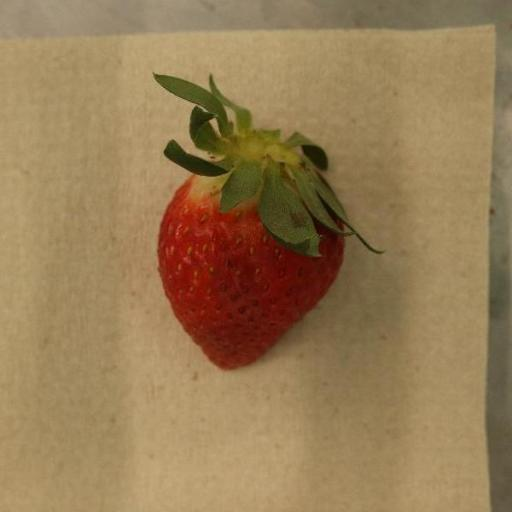Strawberry: (152, 75, 381, 370)
